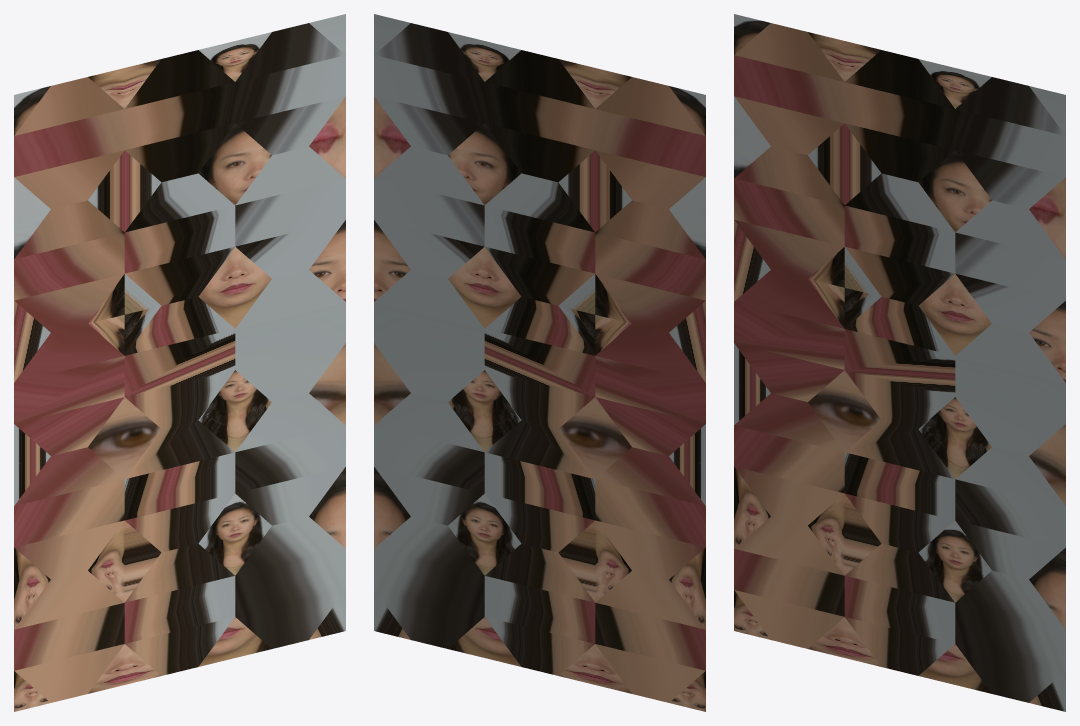
Rendered from nice.fbx.
The picture shows the model from 3 angles, left to right: view 1: azimuth 30°, elevation 25°; view 2: azimuth 150°, elevation 25°; view 3: azimuth 330°, elevation 25°; orthographic projection.
Parts seen in each view (by area): view 1: Plane; view 2: Plane; view 3: Plane.
Part boxes in pixels (x1,y1,x2,y2): Plane: [14, 14, 345, 711]; Plane: [374, 14, 705, 711]; Plane: [734, 14, 1065, 711].
Size of the model in its own units: 720 by 1280 by 3.63e-13.
1 material, 1 textured.
